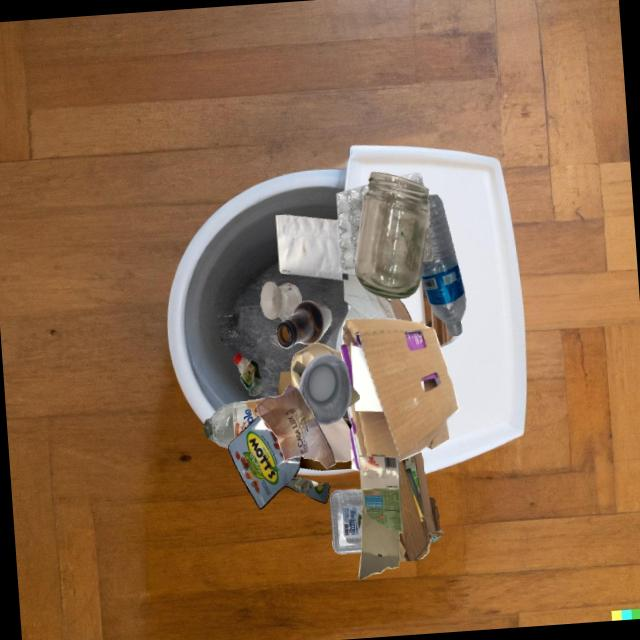cardboard: (339, 318, 459, 471), (358, 453, 403, 580), (290, 371, 350, 461), (398, 451, 443, 561), (299, 456, 352, 470), (277, 371, 292, 396), (292, 360, 306, 379), (348, 384, 359, 406)
glass: (354, 172, 429, 299), (203, 397, 265, 448), (276, 300, 332, 348), (260, 281, 302, 320), (343, 418, 352, 429)
paper: (256, 385, 336, 469), (335, 273, 411, 353), (275, 214, 355, 280), (290, 342, 342, 390), (318, 416, 351, 461)
plastic: (421, 194, 465, 336), (354, 183, 427, 263), (298, 353, 351, 425), (336, 183, 368, 270), (330, 489, 362, 554), (233, 352, 263, 395)
trash: (228, 415, 329, 509)
